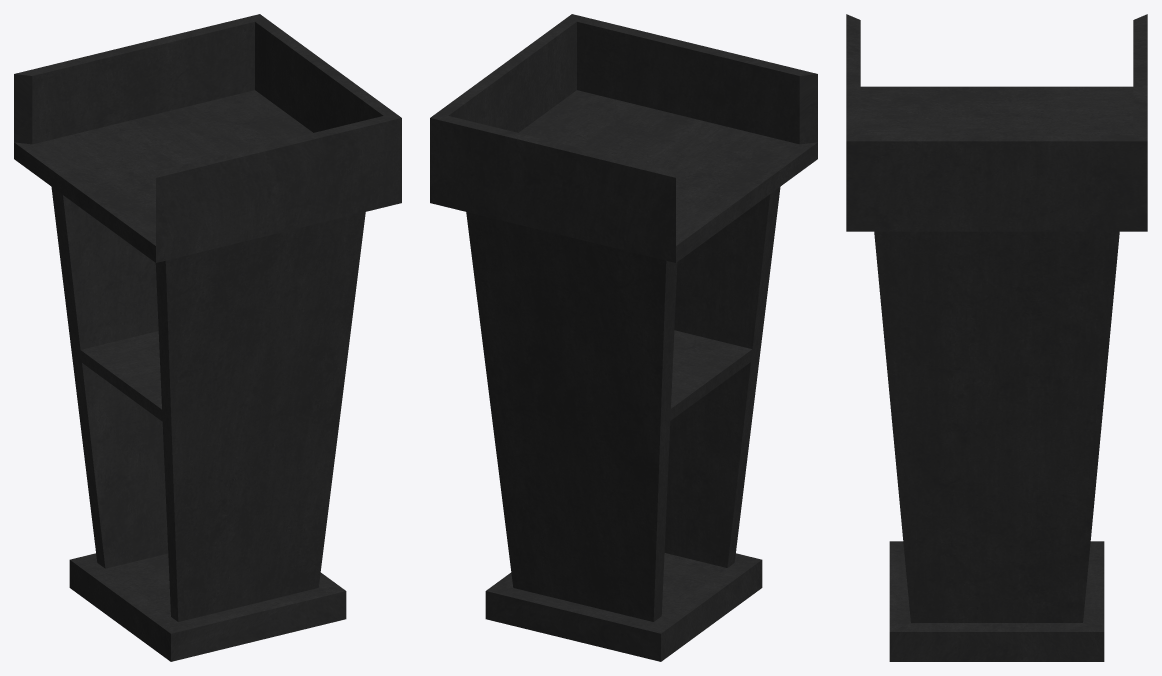
The model's file is HostTableVirginia.fbx.
The picture shows the model from 3 angles, left to right: view 1: azimuth 30°, elevation 25°; view 2: azimuth 150°, elevation 25°; view 3: azimuth 270°, elevation 25°; orthographic projection. The views are drawn at different scales.
Visible parts, largest first — view 1: Host_Table; view 2: Host_Table; view 3: Host_Table.
Part boxes in pixels (box(x1,y1,x2,y2)): Host_Table: box(14, 14, 401, 661); Host_Table: box(430, 14, 817, 661); Host_Table: box(846, 14, 1147, 661).
Bounding box in the file's own units: 21 × 41.43 × 21.
1 material, 1 textured.
